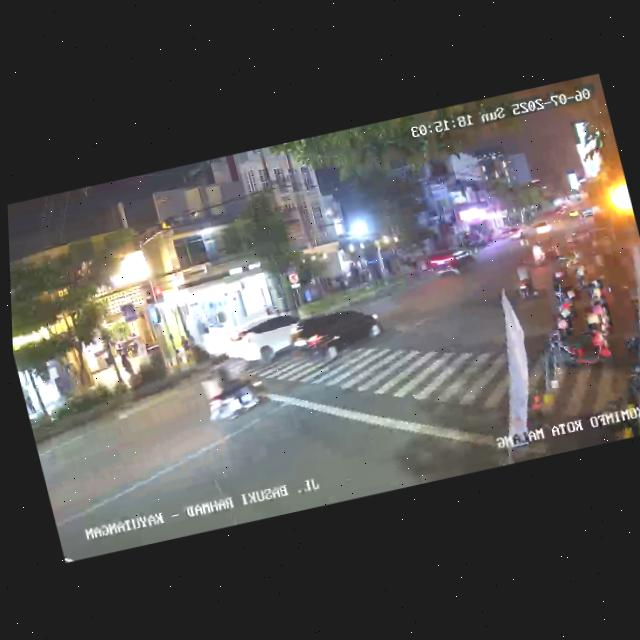car: (288, 297, 390, 368), (212, 307, 307, 372), (423, 246, 479, 282), (531, 218, 555, 239)
motorcycle: (192, 345, 278, 428), (512, 260, 539, 301), (526, 236, 547, 267)
person: (547, 272, 571, 314), (117, 350, 137, 385), (22, 387, 37, 417), (178, 329, 193, 355)
